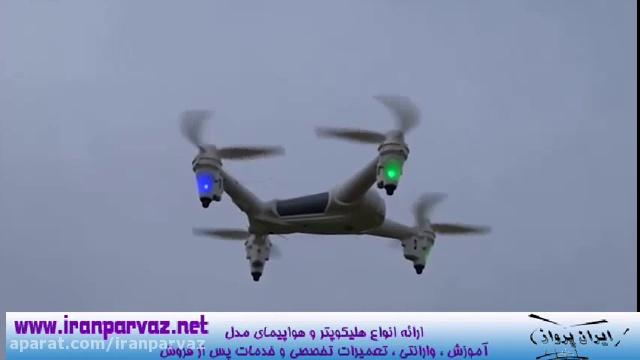drone: (170, 88, 498, 284)
